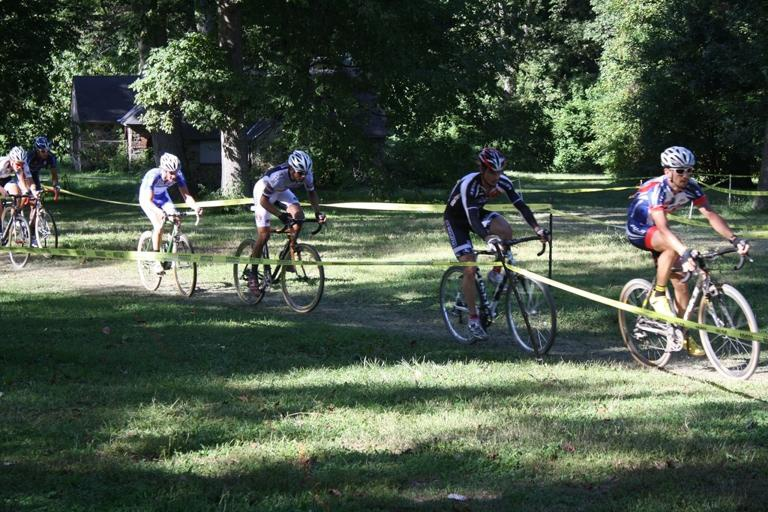non-vehicle: (616, 240, 760, 380), (438, 212, 559, 364), (232, 216, 324, 313), (136, 209, 199, 297), (0, 193, 38, 268), (21, 183, 59, 251)
